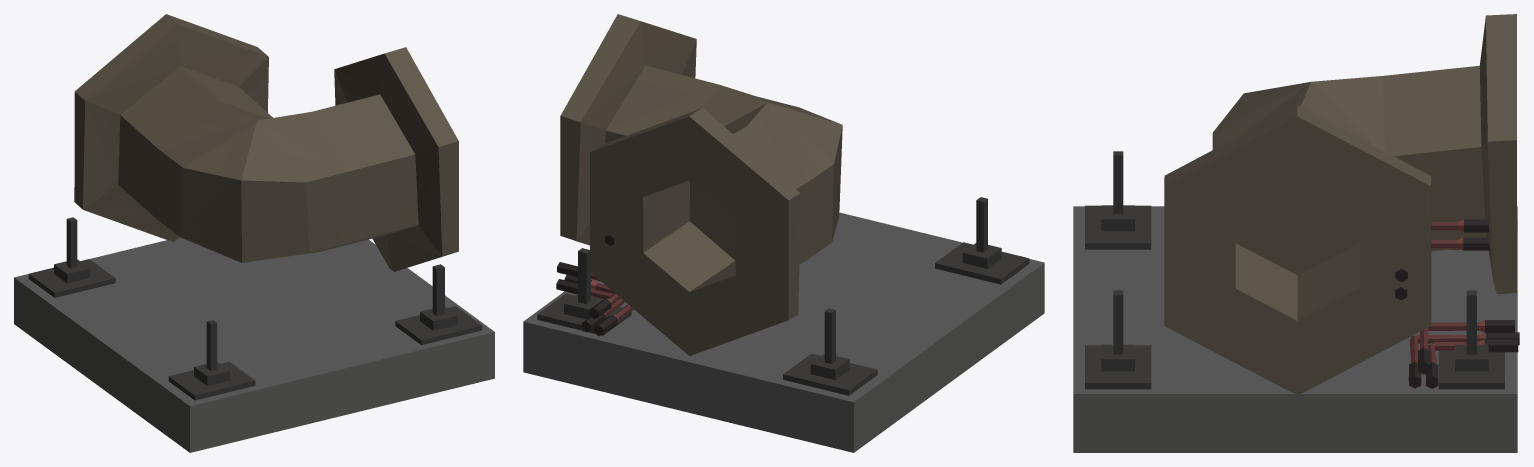
File: pipe-left.gltf
The picture shows the model from 3 angles, left to right: view 1: azimuth 30°, elevation 25°; view 2: azimuth 150°, elevation 25°; view 3: azimuth 270°, elevation 25°; orthographic projection. The views are drawn at different scales.
Visible parts, largest first — view 1: metalowa_zakret.004; view 2: metalowa_zakret.004; view 3: metalowa_zakret.004.
Part boxes in pixels (bbox=[...]): metalowa_zakret.004: bbox=[14, 14, 494, 452]; metalowa_zakret.004: bbox=[523, 14, 1044, 452]; metalowa_zakret.004: bbox=[1073, 14, 1519, 452].
Bounding box in the file's own units: 2.02 × 1.71 × 2.01.
Materials: 1 (1 with a texture image).
